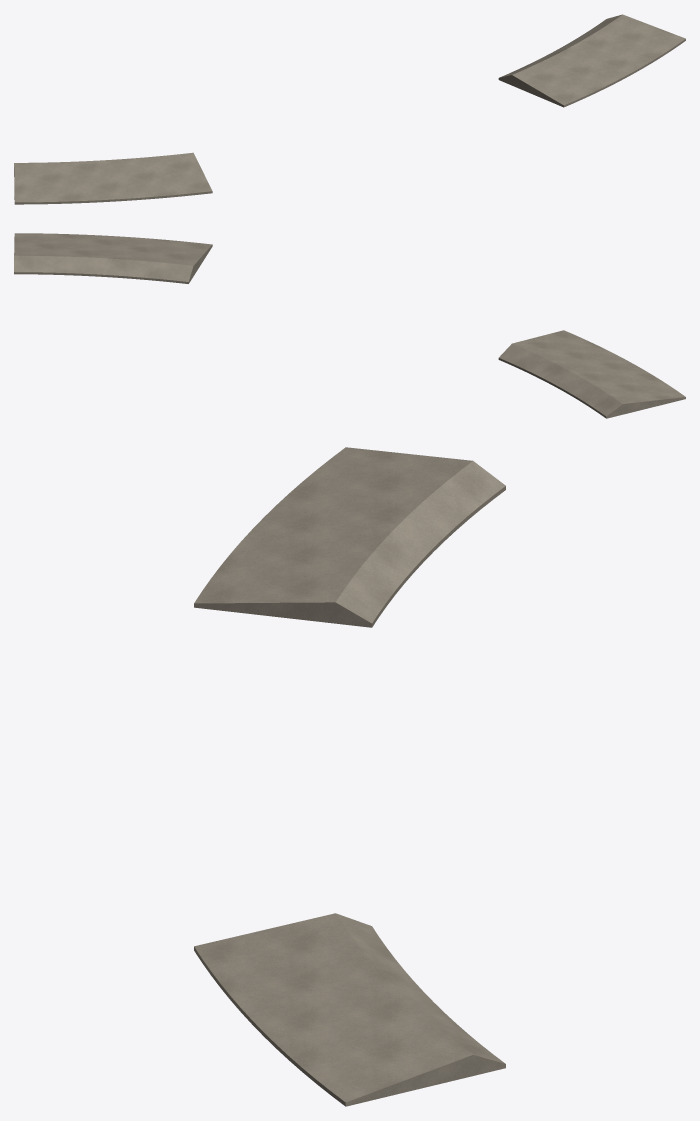
Rendered from ramp_1.glb.
3 views of the same model, one above another, from view 1: azimuth 30°, elevation 25°; view 2: azimuth 150°, elevation 25°; view 3: azimuth 270°, elevation 25° (orthographic). The views are drawn at different scales.
Visible parts, largest first — view 1: ramp_1_gravel_r; view 2: ramp_1_gravel_r; view 3: ramp_1_gravel_r.
Part boxes in pixels (box(x1,y1,x2,y2)): ramp_1_gravel_r: box(14, 14, 685, 204); ramp_1_gravel_r: box(14, 233, 685, 418); ramp_1_gravel_r: box(194, 447, 505, 1106).
Size of the model in its own units: 37 by 0.56 by 7.45.
1 material, 1 textured.
